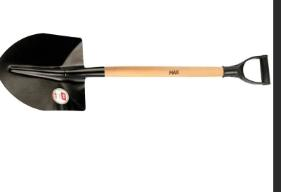PELLE: (0, 28, 274, 144)
